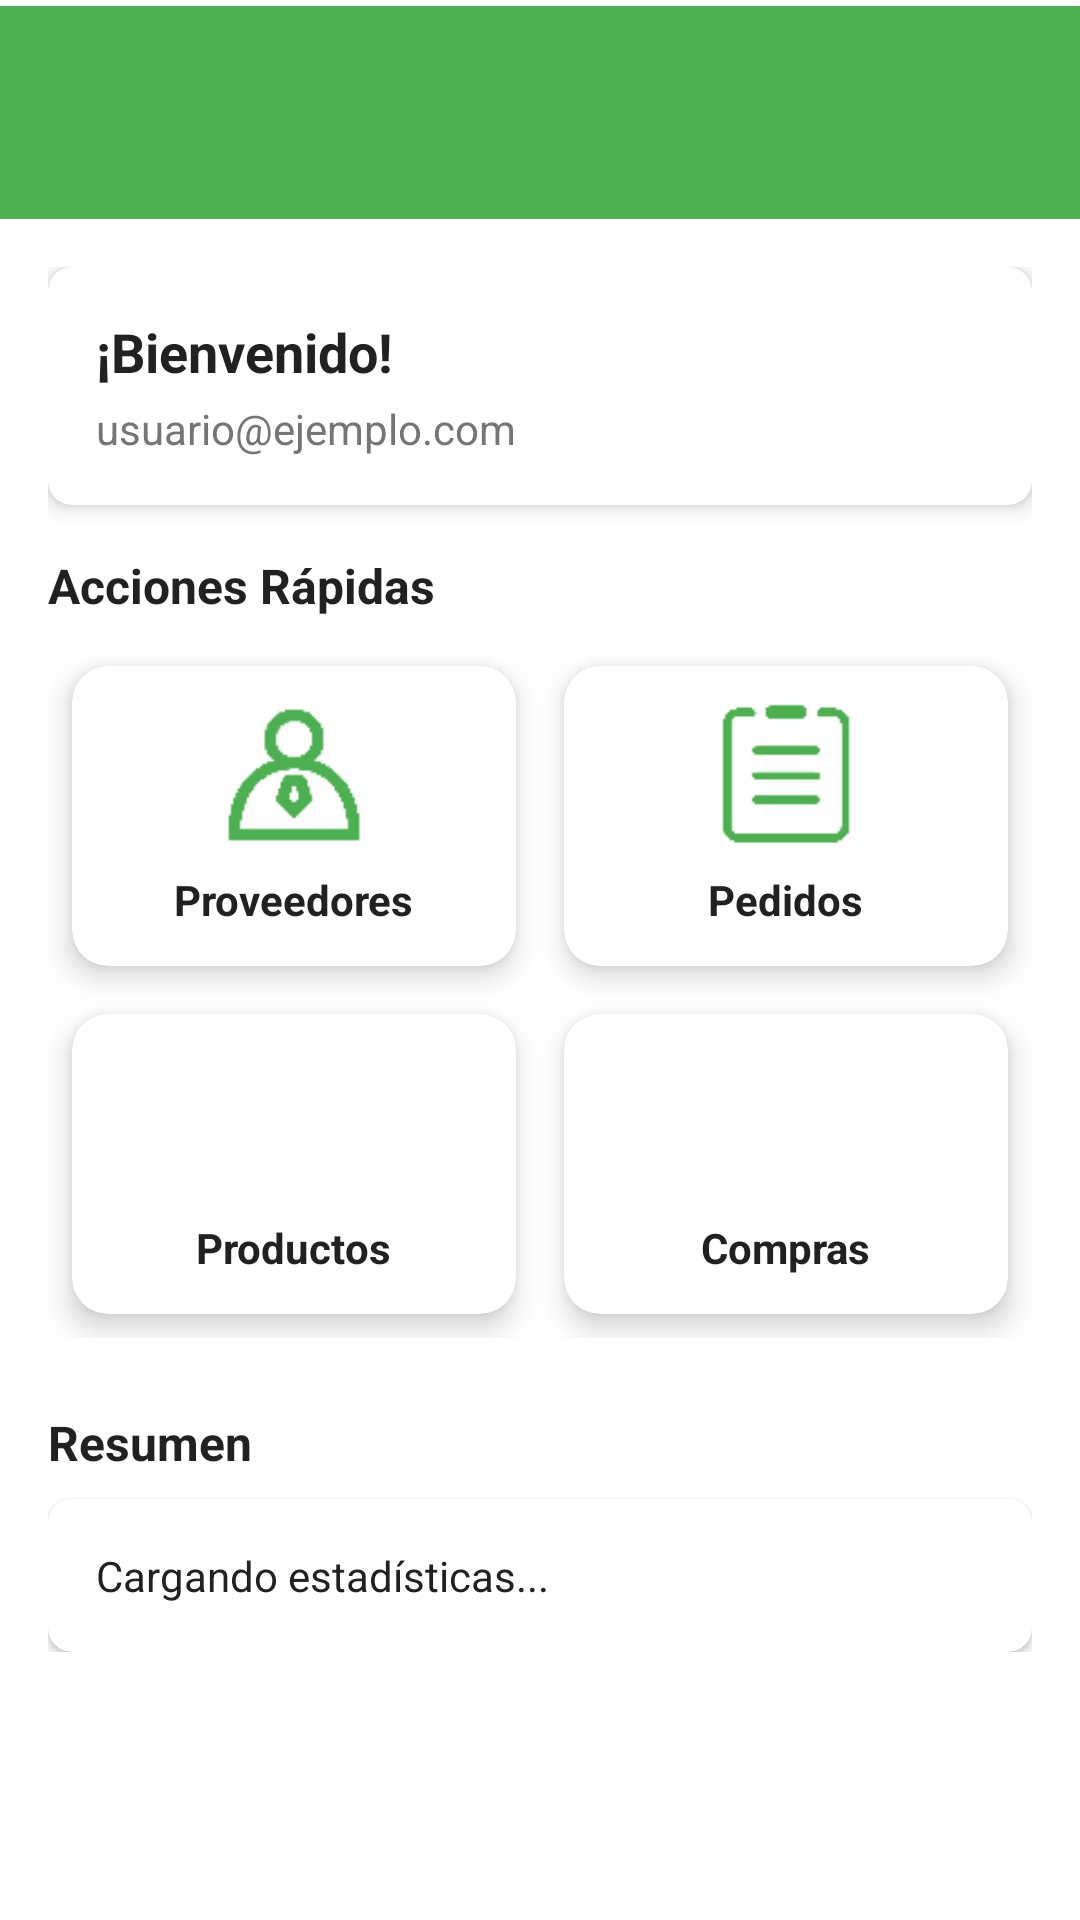

Icons on this 1080*1920 Android screen, each with its box as (x1, y1, x2, y2):
orders: (722, 704, 850, 843)
providers: (228, 709, 360, 841)
